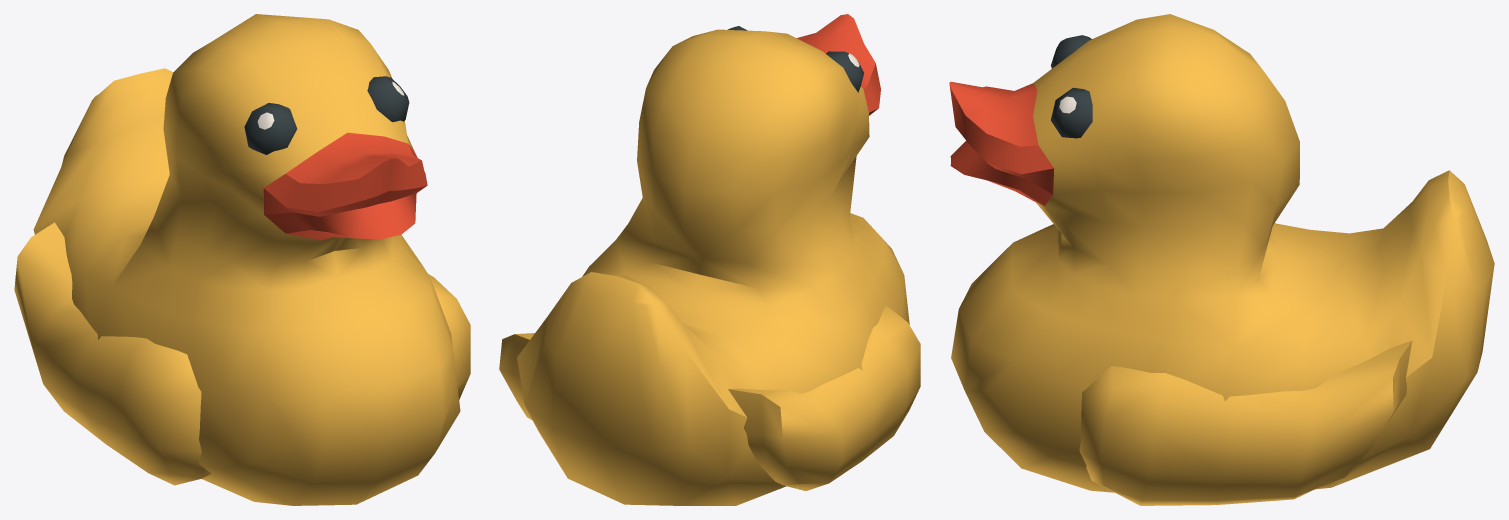
Rendered from RubberDuck_01.fbx.
3 renders of one model, left to right at view 1: azimuth 30°, elevation 25°; view 2: azimuth 150°, elevation 25°; view 3: azimuth 270°, elevation 25°, orthographic. The views are drawn at different scales.
Visible parts, largest first — view 1: RubberDuck_01; view 2: RubberDuck_01; view 3: RubberDuck_01.
Boxes of the visible parts, <box> form: RubberDuck_01: <box>14,14,470,505</box>; RubberDuck_01: <box>499,14,920,505</box>; RubberDuck_01: <box>949,14,1494,505</box>.
Size of the model in its own units: 0.164 by 0.1986 by 0.2213.
